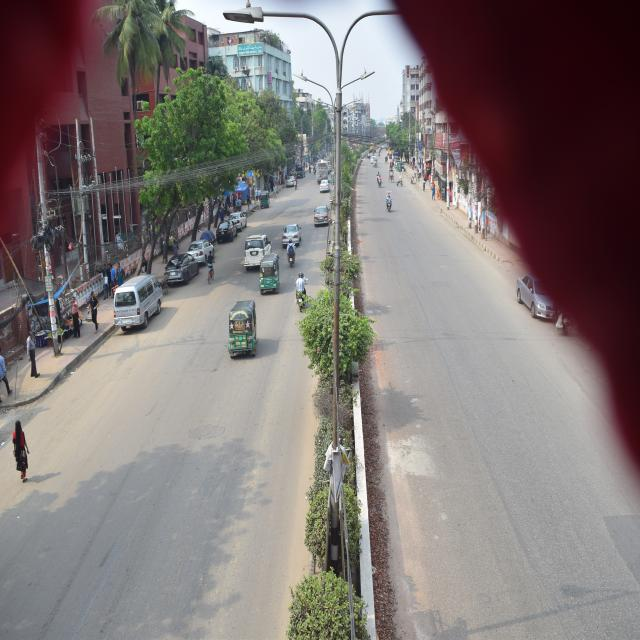car: (512, 262, 560, 326), (156, 247, 203, 290), (174, 234, 220, 262), (241, 233, 271, 264), (276, 223, 302, 247), (310, 201, 334, 226), (215, 216, 236, 243), (228, 208, 247, 229), (276, 176, 296, 194), (319, 182, 331, 195)
microbus: (113, 273, 170, 330)
motorbike: (286, 269, 317, 310), (280, 225, 304, 275), (366, 166, 389, 191), (382, 195, 394, 226)
